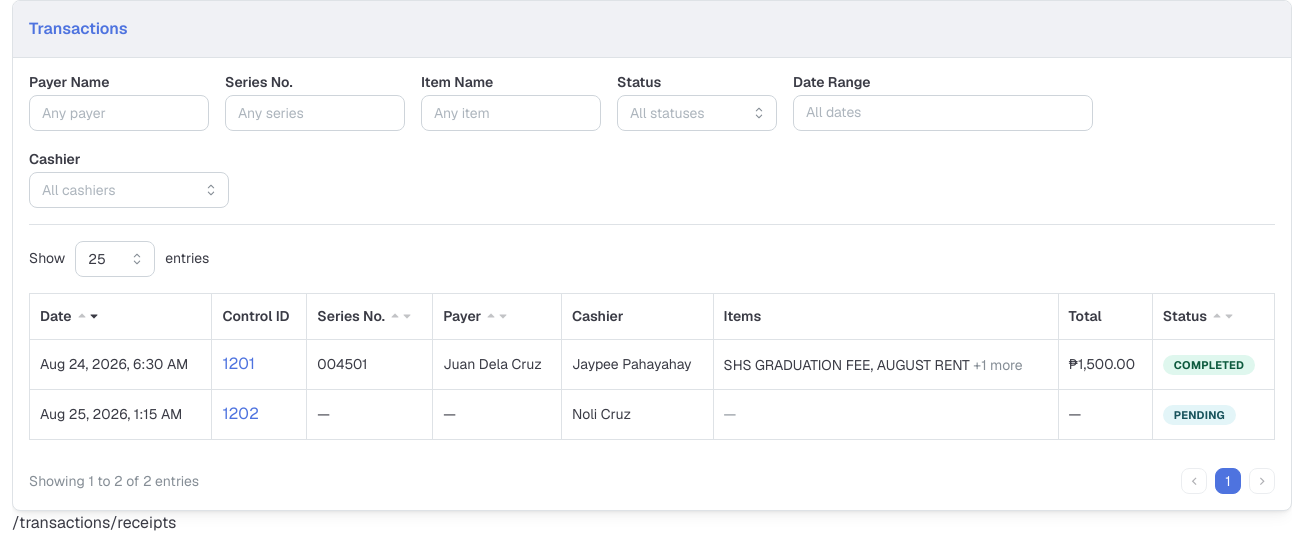
TransactionListPage › offers a clear control once any single filter is set
Expected: the text "Juan Dela Cruz" is shown, left=433, top=340, right=562, bottom=390
Type "santos" into the field labelled "Payer Name" at [119, 113], box left=29, top=95, right=209, bottom=131
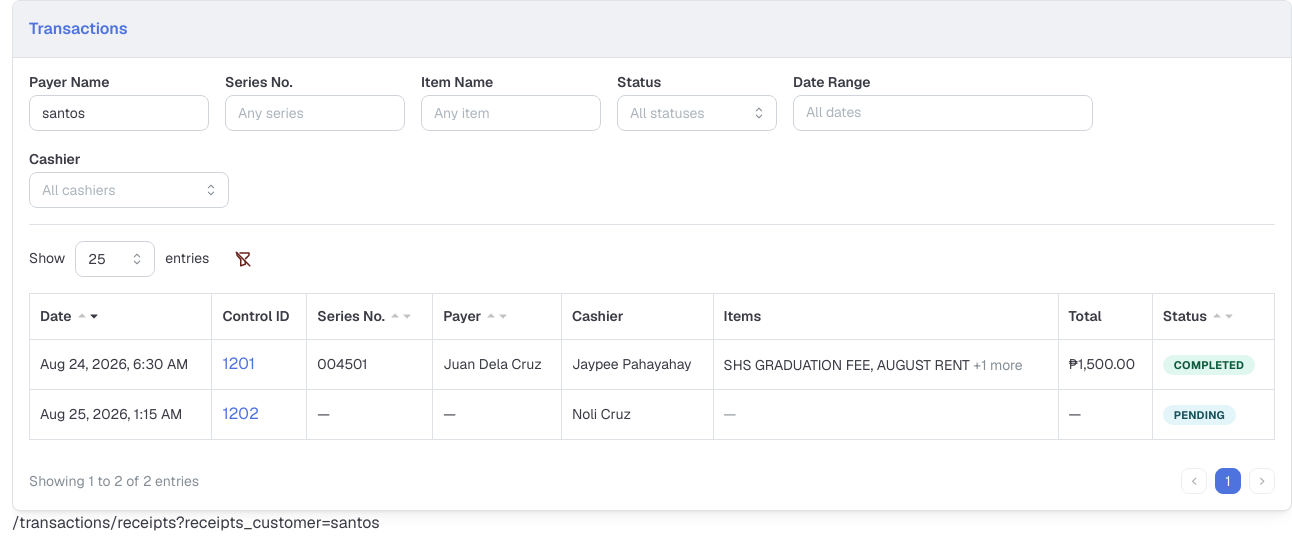
Now the button named "Clear filters" is shown, box left=229, top=245, right=257, bottom=273
